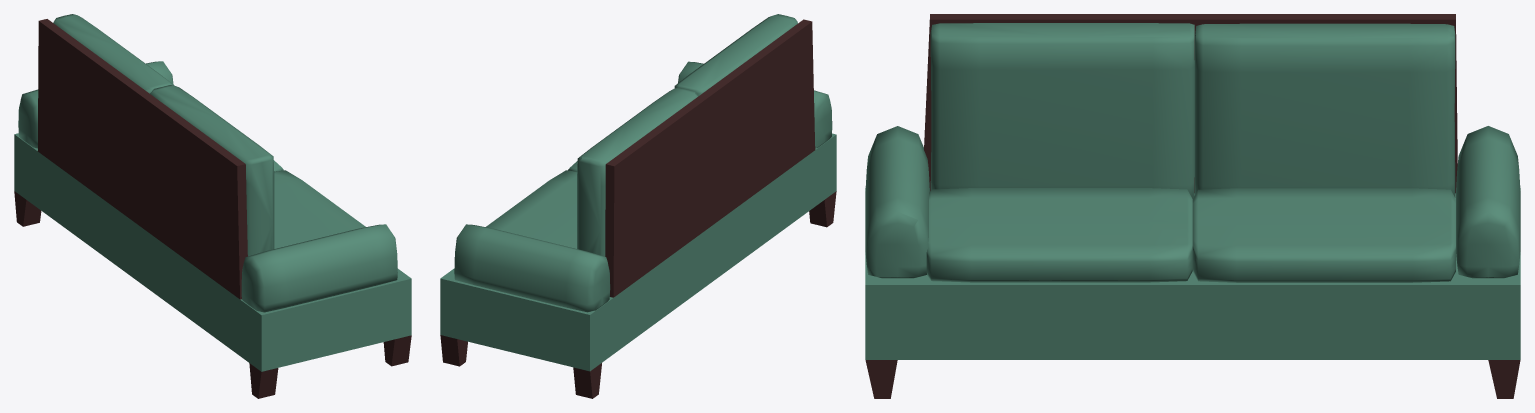
The model's file is couchTest.fbx.
3 renders of one model, left to right at view 1: azimuth 30°, elevation 25°; view 2: azimuth 150°, elevation 25°; view 3: azimuth 270°, elevation 25°, orthographic. The views are drawn at different scales.
Parts seen in each view (by area): view 1: Back, SittingArea, Arms, BackCushion1, SeatCushion1, BackCushion2, Legs; view 2: Back, SittingArea, Arms, BackCushion2, SeatCushion2, BackCushion1, Legs; view 3: SittingArea, BackCushion1, BackCushion2, SeatCushion1, SeatCushion2, Arms, Back, Legs.
Boxes of the visible parts, box(x1,y1,x2,y2) form: Back: box(37, 19, 247, 299); SittingArea: box(14, 133, 411, 371); Arms: box(18, 61, 397, 312); BackCushion1: box(150, 85, 274, 256); SeatCushion1: box(274, 170, 365, 248); BackCushion2: box(53, 14, 174, 93); Legs: box(14, 191, 411, 398); Back: box(605, 19, 815, 297); SittingArea: box(440, 133, 836, 371); Arms: box(454, 61, 832, 312); BackCushion2: box(577, 87, 698, 256); SeatCushion2: box(486, 170, 577, 248); BackCushion1: box(674, 14, 797, 95); Legs: box(440, 191, 836, 398); SittingArea: box(865, 188, 1520, 359); BackCushion1: box(930, 23, 1194, 198); BackCushion2: box(1194, 23, 1455, 197); SeatCushion1: box(926, 188, 1192, 282); SeatCushion2: box(1192, 188, 1455, 282); Arms: box(865, 126, 1520, 278); Back: box(924, 14, 1457, 193); Legs: box(865, 360, 1520, 398).
Bounding box in the file's own units: 299 × 413 × 852.
